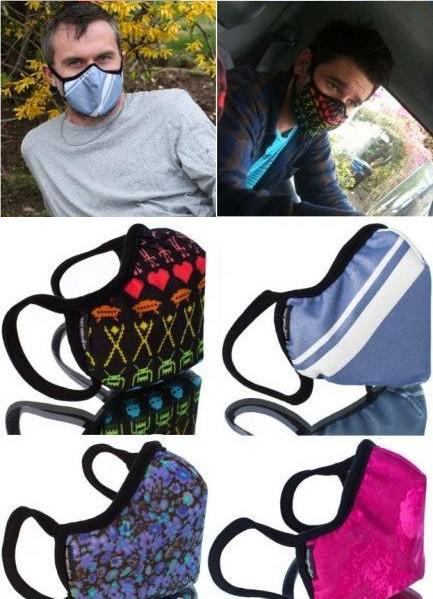OK: (297, 68, 375, 138), (57, 47, 129, 119)
